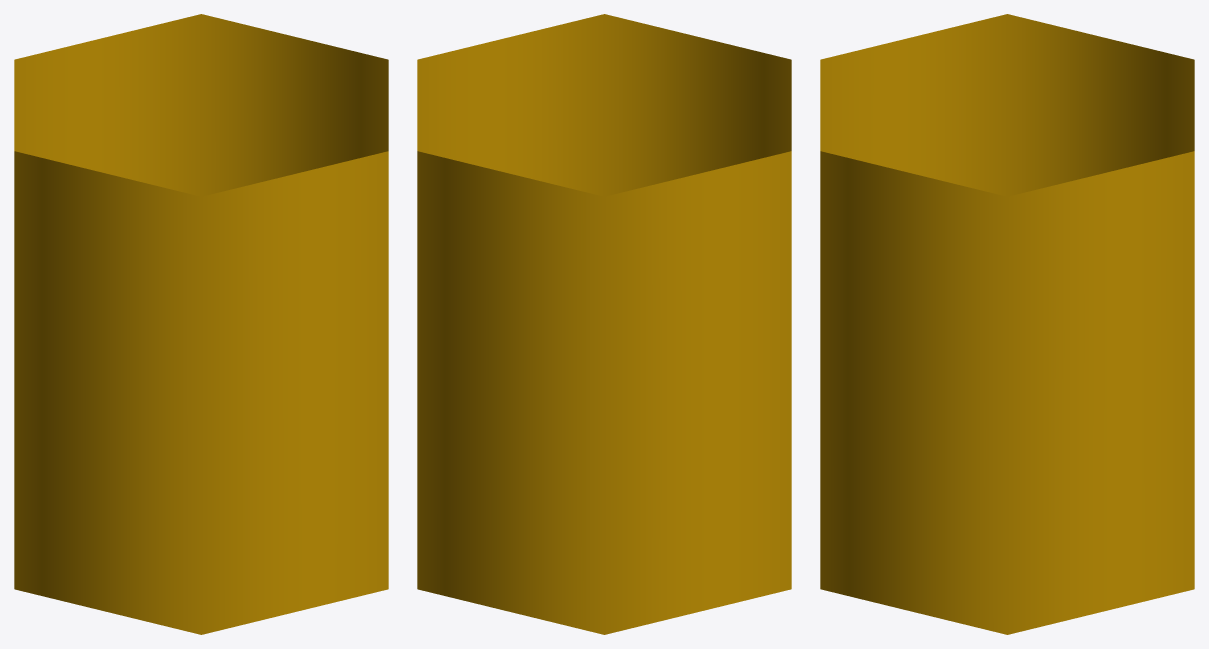
File: Limb.obj
3 views of the same model, side by side, from view 1: azimuth 30°, elevation 25°; view 2: azimuth 150°, elevation 25°; view 3: azimuth 270°, elevation 25° (orthographic).
Size of the model in its own units: 1.2 by 1.35 by 1.04.
1 material, 1 textured.
